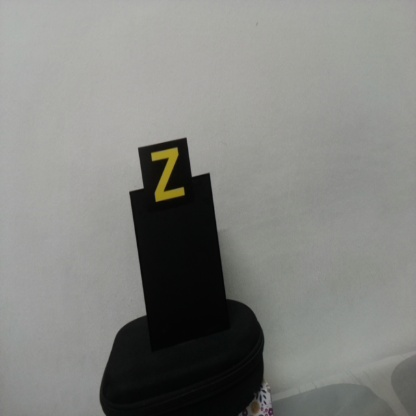id_15: (138, 147, 192, 211)
